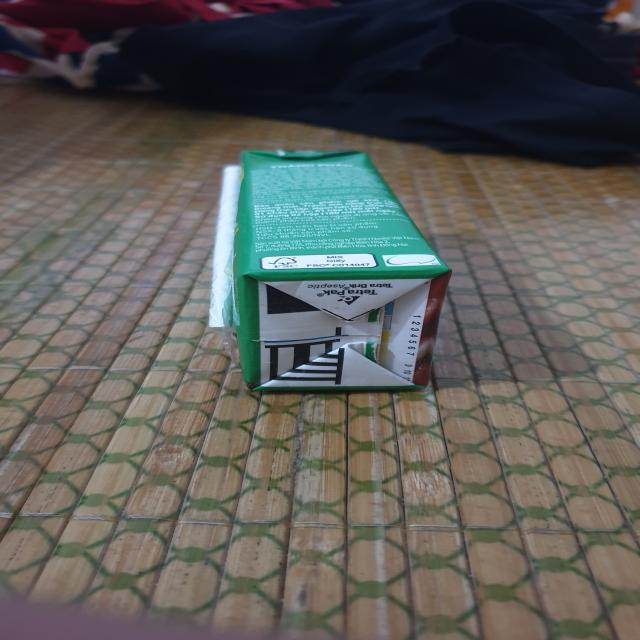Milo: (216, 138, 453, 389)
